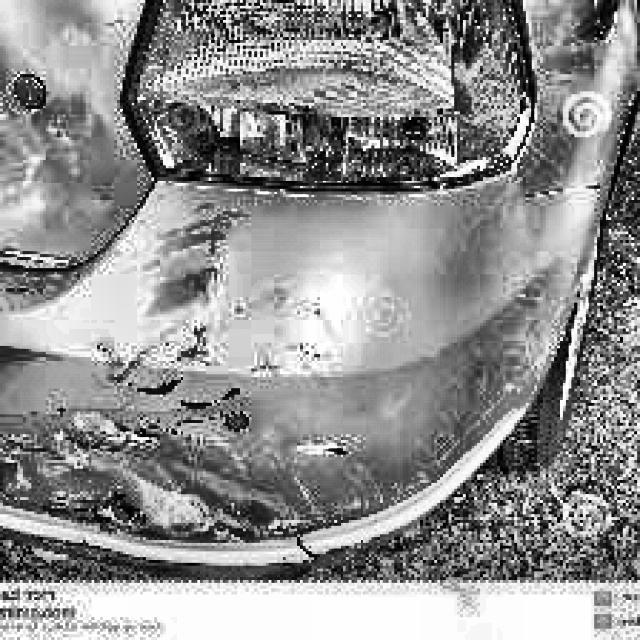bumper_dent: (14, 353, 362, 550)
bumper_scratch: (17, 431, 194, 537), (112, 354, 268, 434)
tail_lamp: (148, 8, 486, 166)
